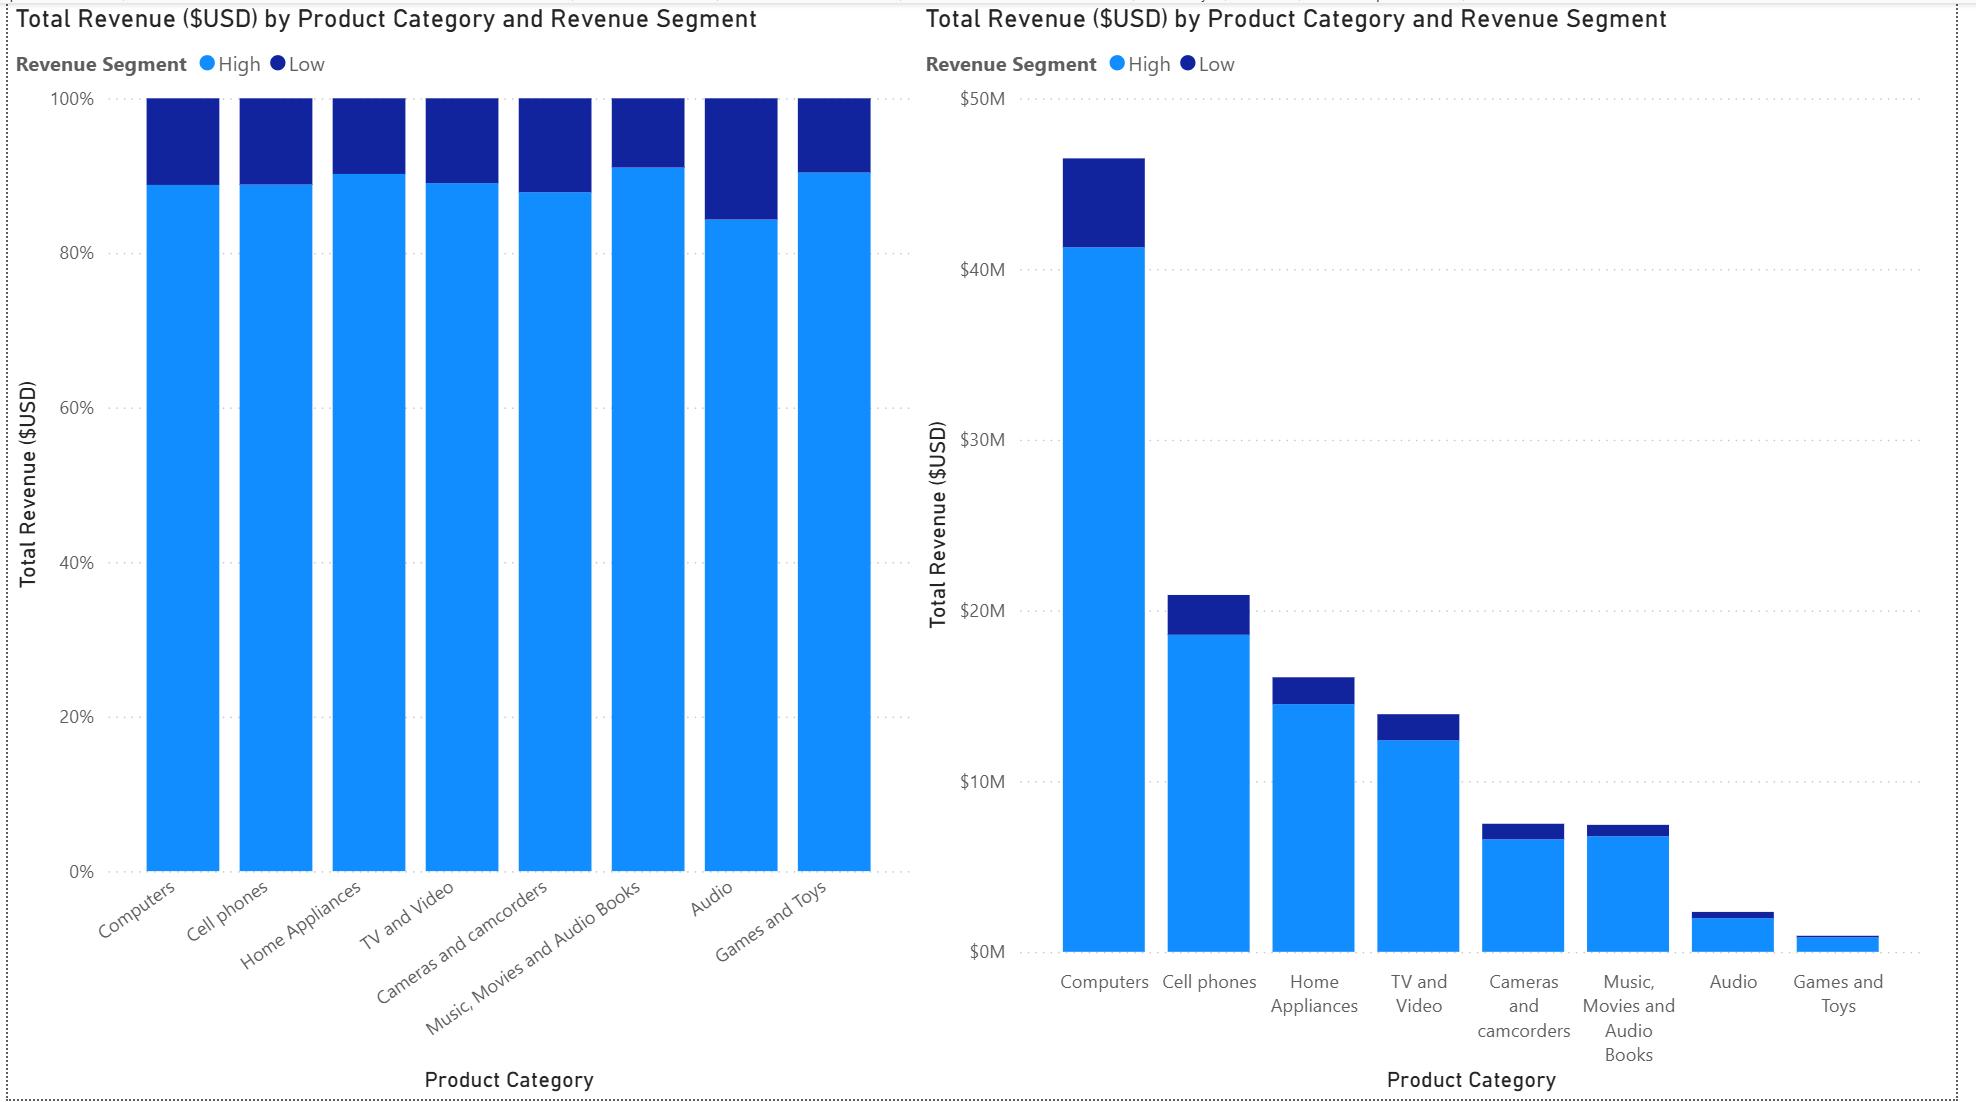

This screenshot's page, from the dashboard's own definition file:
{"tool":"powerbi","page":{"name":"category_revenue_segments","canvas":[1280,720],"ordinal":5},"visuals":[{"type":"hundredPercentStackedColumnChart","fields":{"Category":["public vw_revenue_distribution.product_category"],"Series":["public vw_revenue_distribution.revenue_segment"],"Y":["Sum(public vw_revenue_distribution.total_revenue)"]},"box":[0,0,597.4,720.1],"z":0},{"type":"columnChart","fields":{"Category":["public vw_revenue_distribution.product_category"],"Series":["public vw_revenue_distribution.revenue_segment"],"Y":["Sum(public vw_revenue_distribution.total_revenue)"]},"box":[597.4,0,665.1,720.1],"z":1000}]}

Visuals, with their boxes in screenshot pixels (x1, y1, x2, y2), scaled from the page's 1280x720 canvas onto the 1976x1102 screenshot:
hundredPercentStackedColumnChart - public vw_revenue_distribution.product_category x public vw_revenue_distribution.revenue_segment: region(0, 0, 922, 1101)
columnChart - public vw_revenue_distribution.product_category x public vw_revenue_distribution.revenue_segment: region(922, 0, 1949, 1101)
